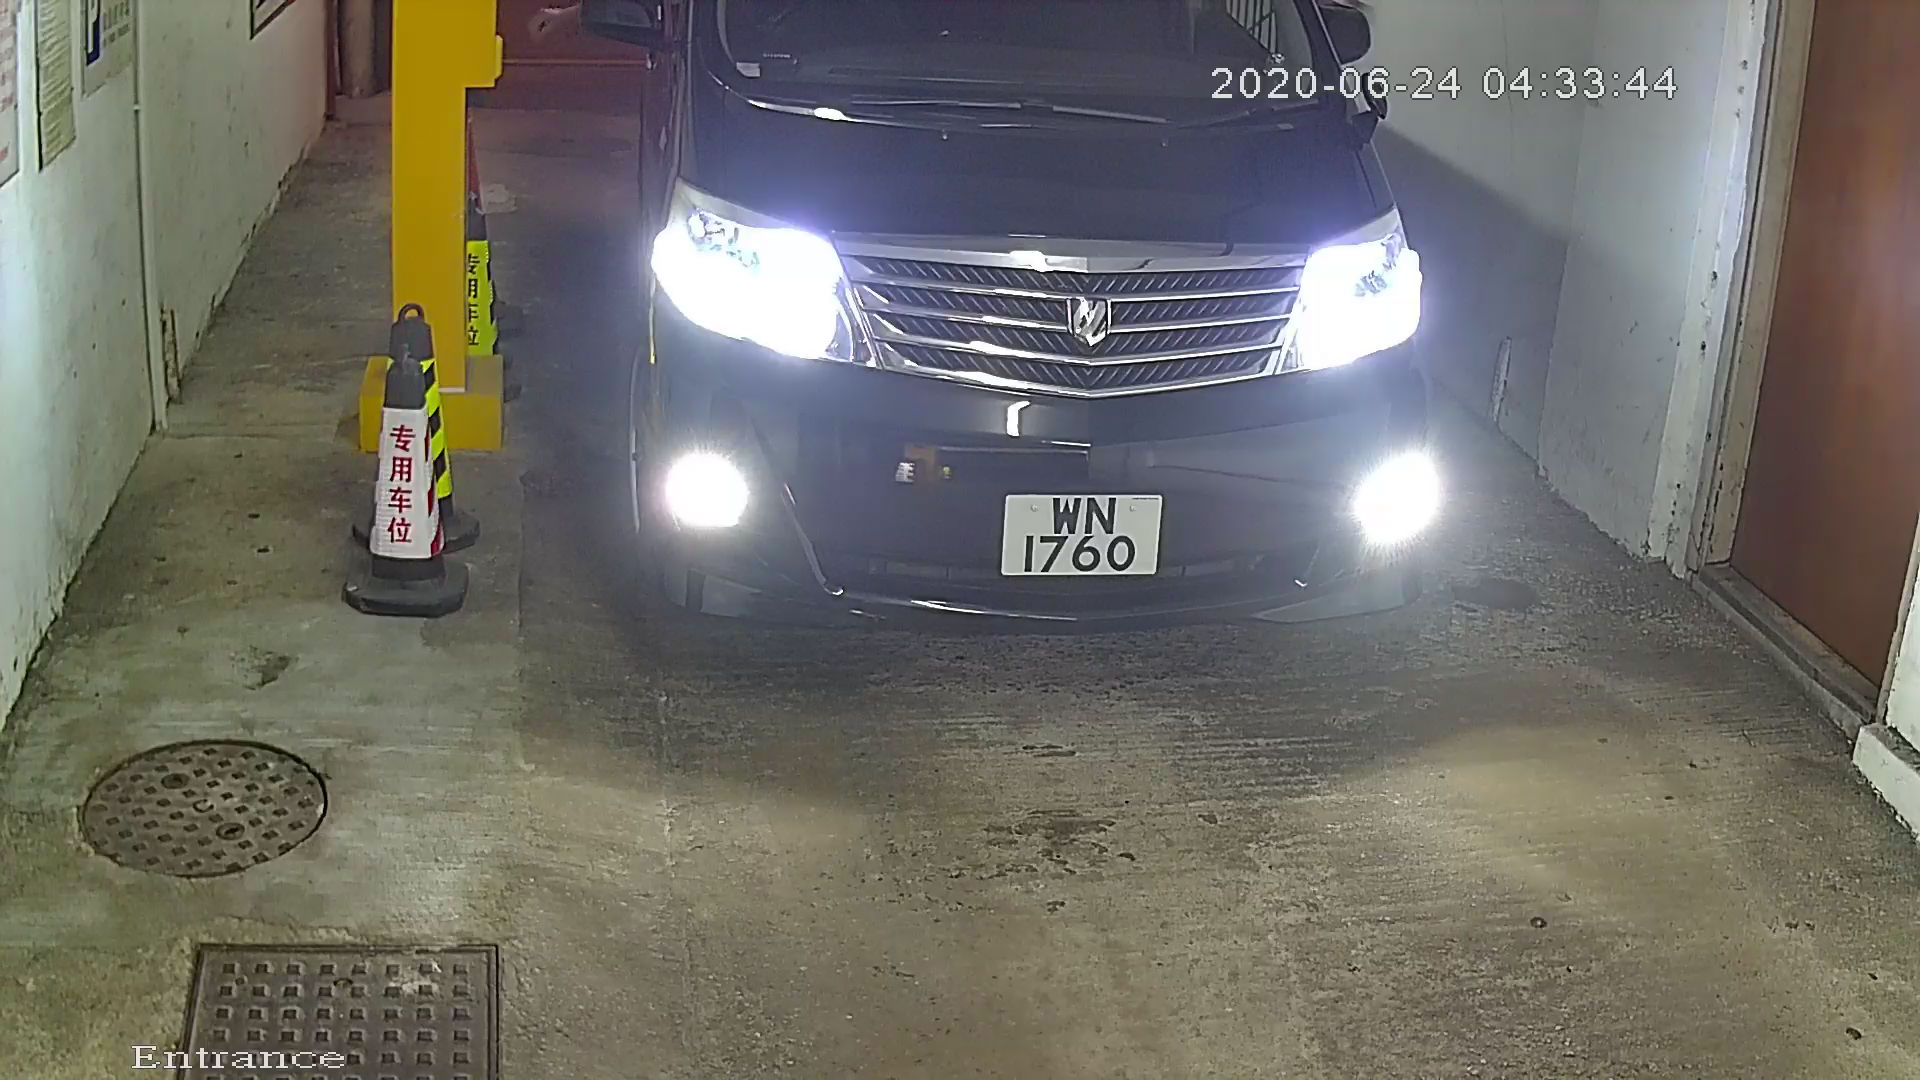privatecar: (562, 3, 1491, 683)
